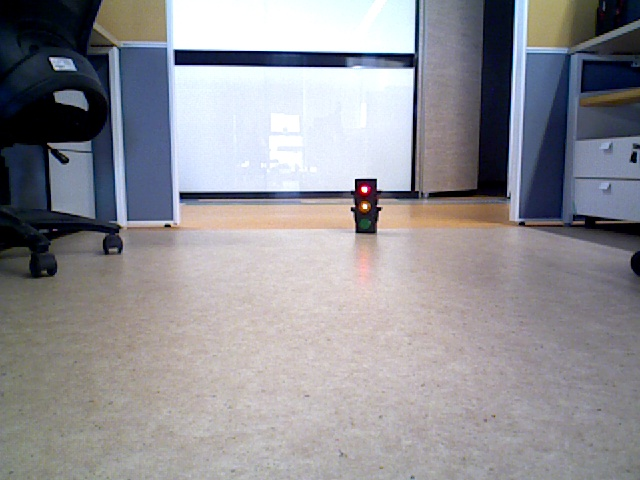red: (353, 178, 374, 229)
